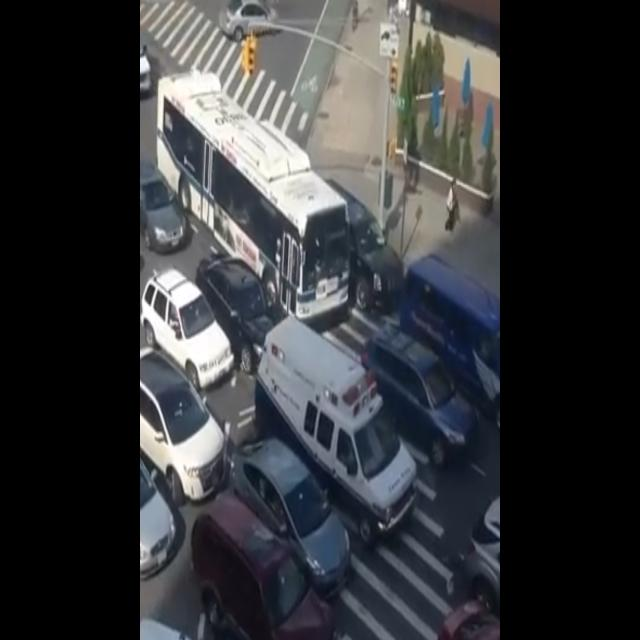Ambulance: (252, 299, 419, 546)
